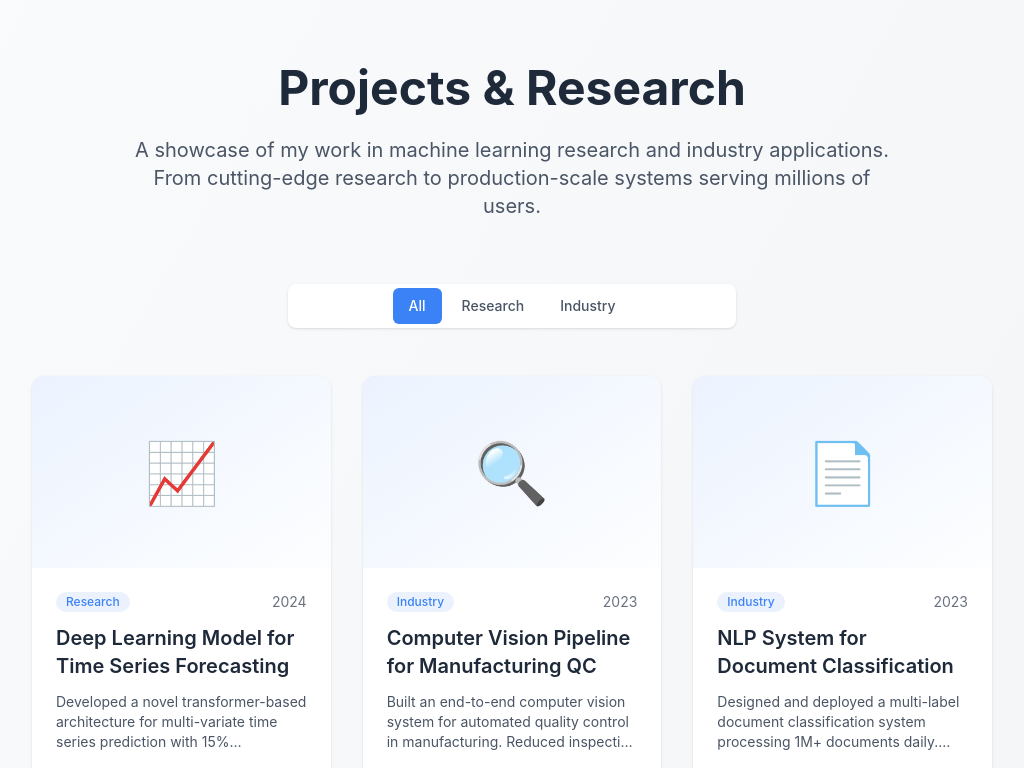
it: Projects Page › Project Filtering › filters projects to show only Research projects when Research filter is clicked
Note: Click Research filter
Click the button "Research".
click(493, 306)  # box [446, 288, 540, 324]
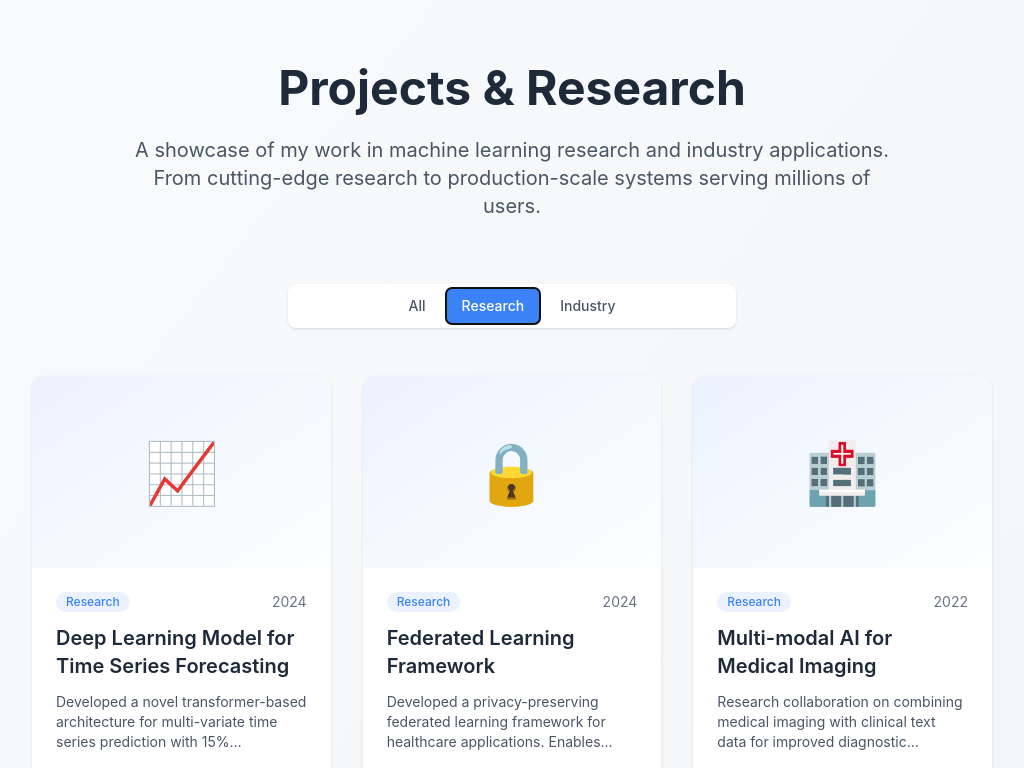
Expected: the heading "Deep Learning Model for Time Series Forecasting" is shown, [56, 624, 307, 680]
Expected: the link "Computer Vision Pipeline for Manufacturing QC" is gone
Expected: the link "NLP System for Document Classification" is gone
